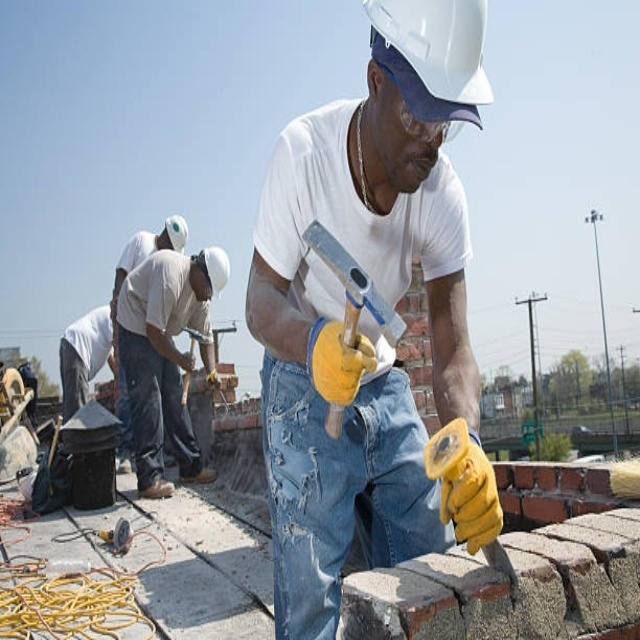Gafas: (398, 97, 470, 144)
Guantes: (432, 430, 503, 563), (306, 311, 381, 405)
Sin_mascara: (399, 149, 440, 195)
